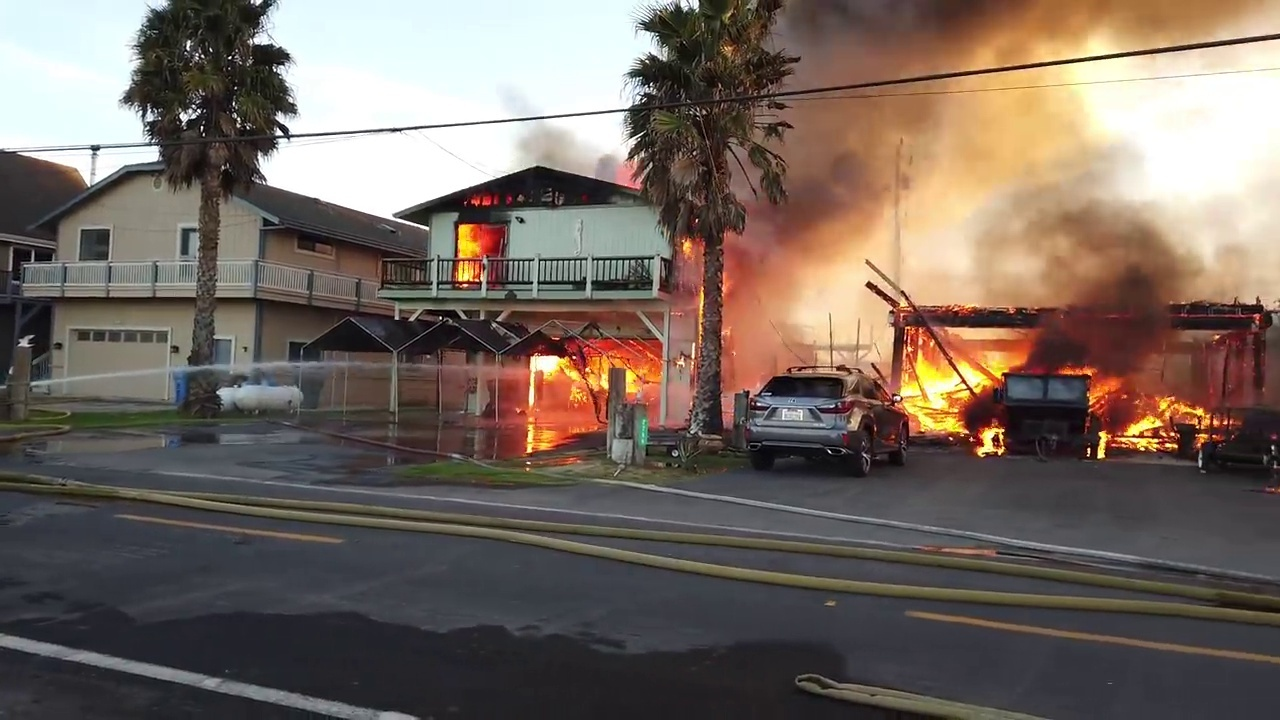fire: (517, 331, 660, 445), (890, 319, 1005, 452), (1061, 364, 1227, 454), (449, 176, 512, 285), (1055, 360, 1092, 374)
smoke: (769, 1, 1101, 307), (1024, 138, 1201, 382)
